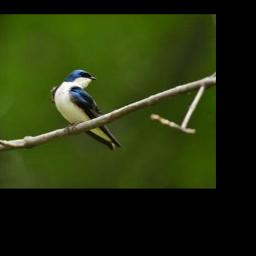Swallow: (50, 68, 123, 150)
